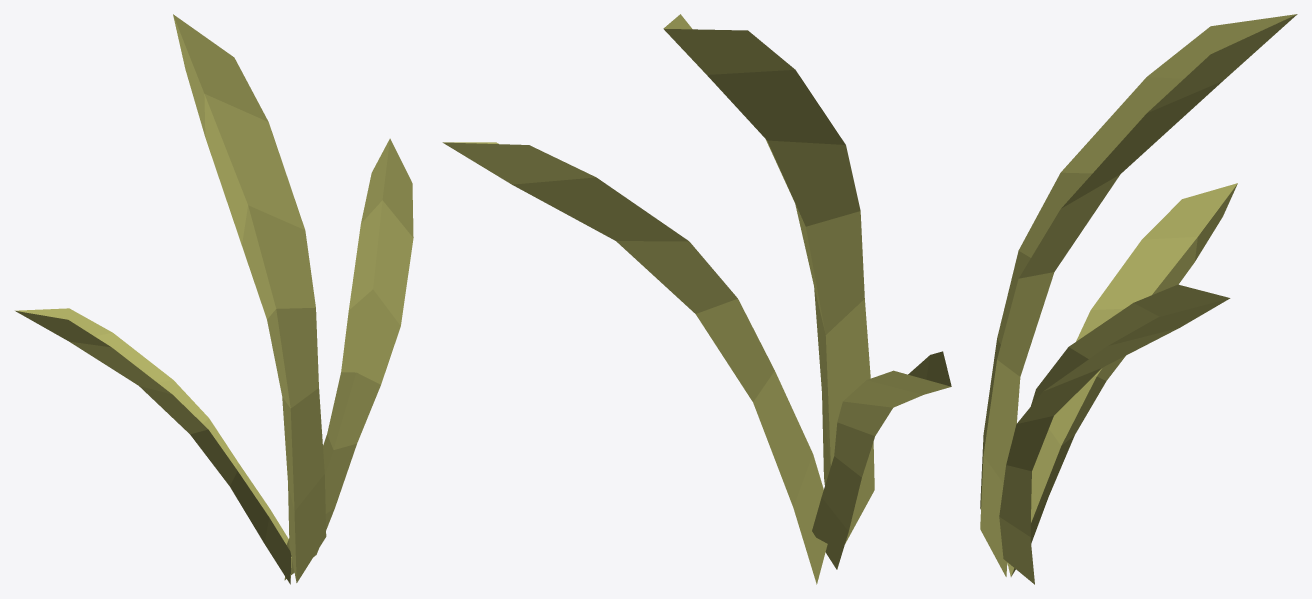
File: tanaman 2.fbx
3 views of the same model, side by side, from view 1: azimuth 30°, elevation 25°; view 2: azimuth 150°, elevation 25°; view 3: azimuth 270°, elevation 25° (orthographic). The views are drawn at different scales.
Parts seen in each view (by area): view 1: Plane.068; view 2: Plane.068; view 3: Plane.068.
Boxes of the visible parts, <box> form: Plane.068: <box>15,14,413,584</box>; Plane.068: <box>442,14,951,584</box>; Plane.068: <box>980,14,1297,584</box>.
Size of the model in its own units: 26.58 by 33.06 by 16.67.
